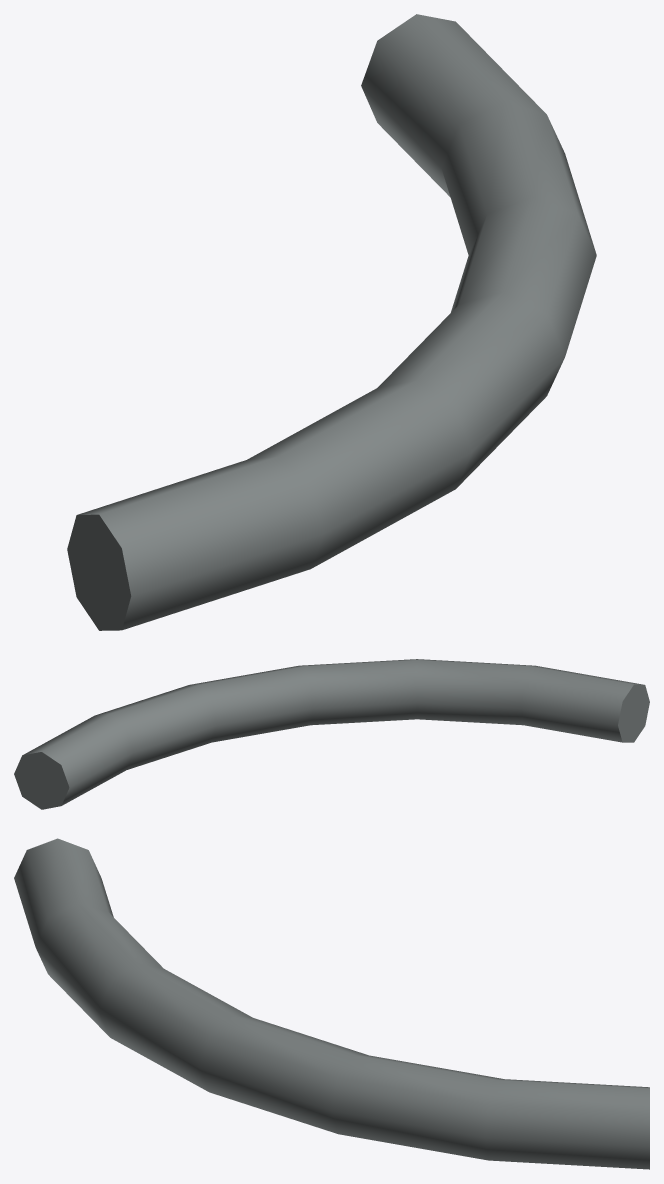
Rendered from TuboCurvo.fbx.
The picture shows the model from 3 angles, top to bottom: view 1: azimuth 30°, elevation 25°; view 2: azimuth 150°, elevation 25°; view 3: azimuth 270°, elevation 25°; orthographic projection. The views are drawn at different scales.
Parts seen in each view (by area): view 1: TuboCurvo; view 2: TuboCurvo; view 3: TuboCurvo.
Part boxes in pixels (box(x1,y1,x2,y2)): TuboCurvo: box(67, 14, 596, 630); TuboCurvo: box(14, 659, 649, 809); TuboCurvo: box(14, 838, 649, 1169).
Size of the model in its own units: 9.3 by 1.28 by 9.3.
1 material, 1 textured.
